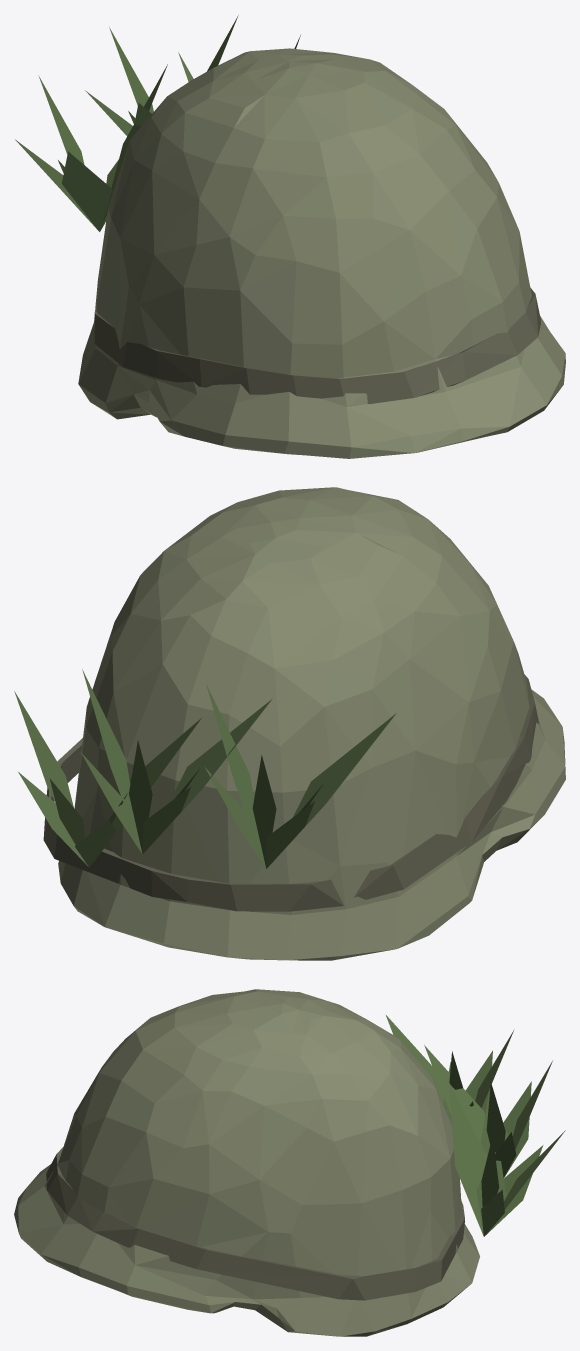
File: m1_foliage.glb
The picture shows the model from 3 angles, top to bottom: view 1: azimuth 30°, elevation 25°; view 2: azimuth 150°, elevation 25°; view 3: azimuth 270°, elevation 25°; orthographic projection. The views are drawn at different scales.
Parts seen in each view (by area): view 1: helmet_foliage_cover, helmet_foliage_band, helmet_foliage_foliage.002, helmet_foliage_foliage.001; view 2: helmet_foliage_cover, helmet_foliage_band, helmet_foliage_foliage.002, helmet_foliage_foliage.001, helmet_foliage_foliage; view 3: helmet_foliage_cover, helmet_foliage_band, helmet_foliage_foliage, helmet_foliage_foliage.001, helmet_foliage_foliage.002.
Part boxes in pixels (x1,y1,x2,y2): helmet_foliage_cover: (78, 48, 565, 458); helmet_foliage_band: (94, 287, 540, 404); helmet_foliage_foliage.002: (15, 64, 167, 231); helmet_foliage_foliage.001: (85, 15, 238, 136); helmet_foliage_cover: (58, 487, 565, 960); helmet_foliage_band: (43, 675, 539, 911); helmet_foliage_foliage.002: (204, 684, 396, 868); helmet_foliage_foliage.001: (81, 669, 272, 854); helmet_foliage_foliage: (14, 691, 201, 867); helmet_foliage_cover: (14, 989, 479, 1336); helmet_foliage_band: (46, 1147, 464, 1300); helmet_foliage_foliage: (449, 1082, 565, 1236); helmet_foliage_foliage.001: (424, 1045, 552, 1177); helmet_foliage_foliage.002: (386, 1015, 514, 1122).
Size of the model in its own units: 0.2289 by 0.1917 by 0.3604.
